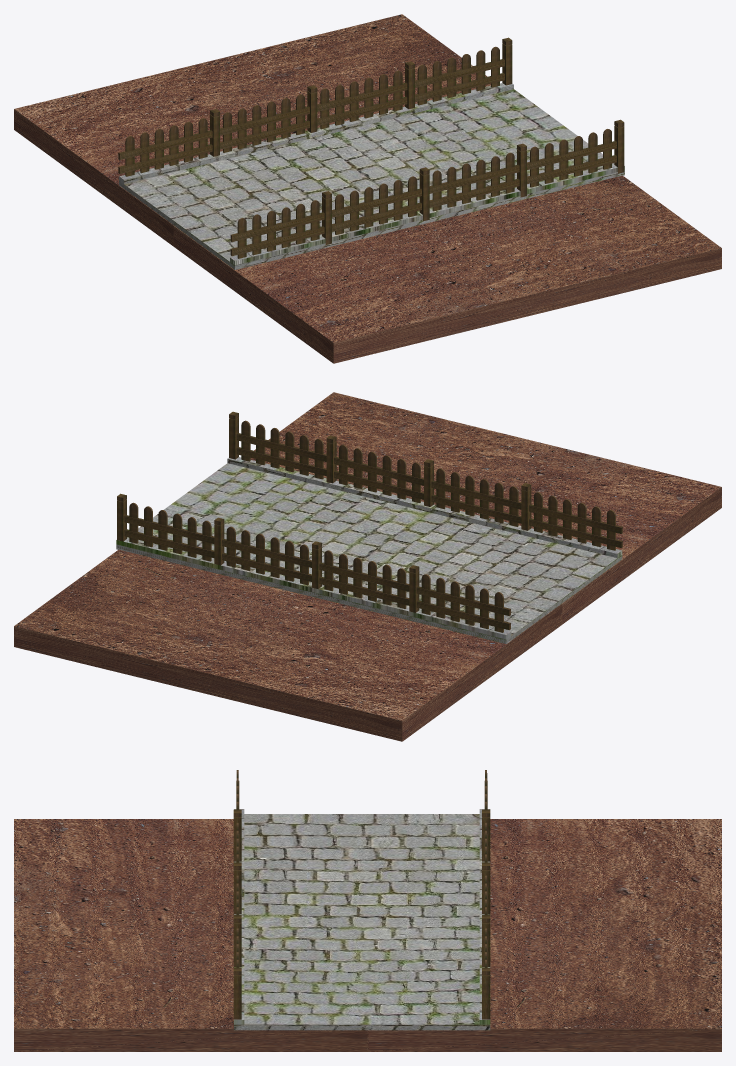
The model's file is 5S_01lumian.FBX.
The picture shows the model from 3 angles, top to bottom: view 1: azimuth 30°, elevation 25°; view 2: azimuth 150°, elevation 25°; view 3: azimuth 270°, elevation 25°; orthographic projection. The views are drawn at different scales.
Parts seen in each view (by area): view 1: 5S_09Road1_1; view 2: 5S_09Road1_1; view 3: 5S_09Road1_1.
Boxes of the visible parts, x1,y1,x2,y2 form: 5S_09Road1_1: (14,14,721,363); 5S_09Road1_1: (14,392,721,741); 5S_09Road1_1: (14,770,721,1051).
Size of the model in its own units: 19.65 by 3.53 by 27.76.
Materials: 3 (3 with a texture image).
